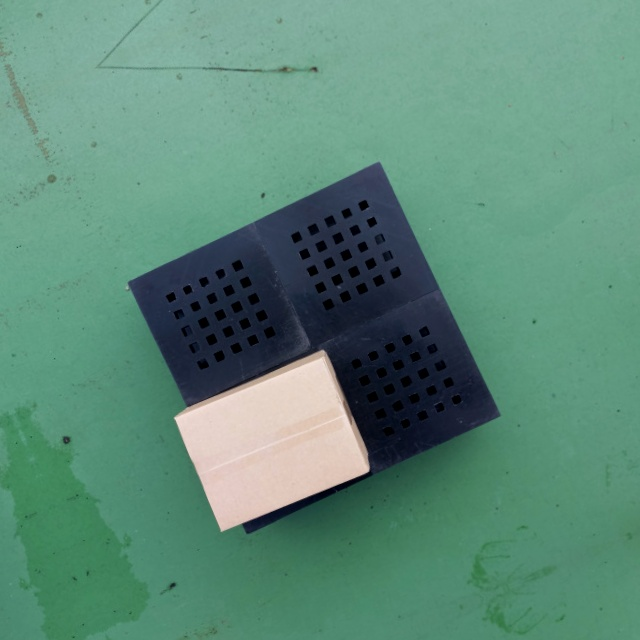box: (172, 349, 369, 536)
pallet: (115, 143, 506, 560)
